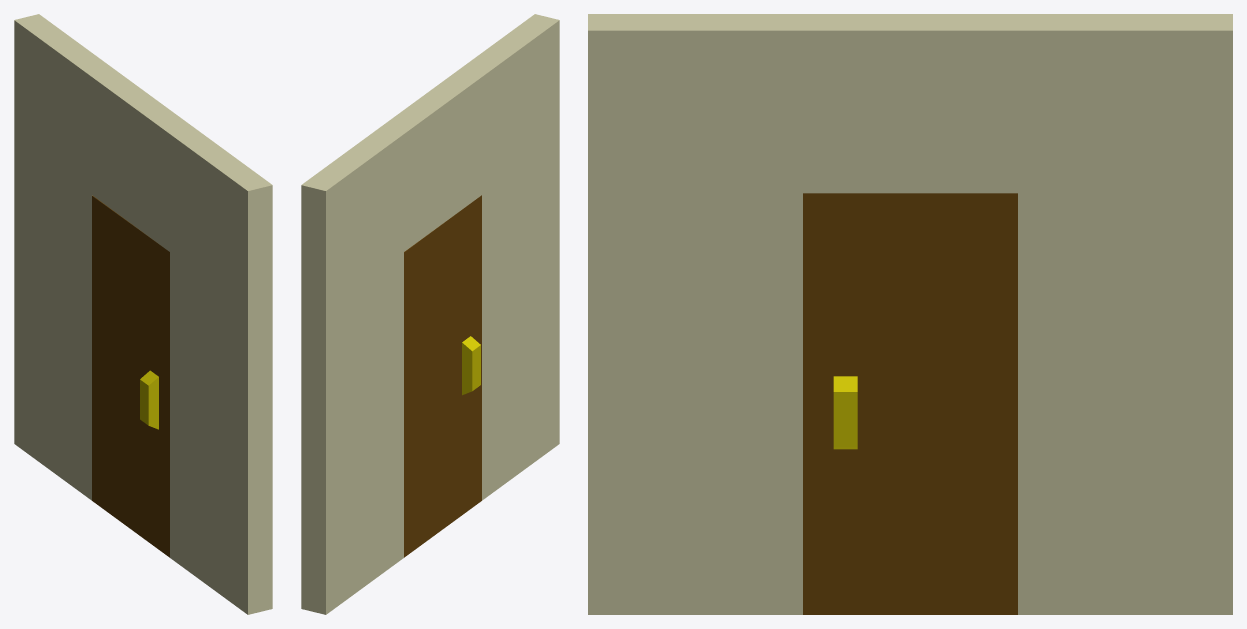
Rendered from door.fbx.
3 views of the same model, side by side, from view 1: azimuth 30°, elevation 25°; view 2: azimuth 150°, elevation 25°; view 3: azimuth 270°, elevation 25° (orthographic). The views are drawn at different scales.
Visible parts, largest first — view 1: Wall, Door; view 2: Wall, Door; view 3: Wall, Door.
Part boxes in pixels (box(x1,y1,x2,y2)): Wall: box(14, 14, 272, 614); Door: box(92, 195, 169, 557); Wall: box(301, 14, 559, 614); Door: box(404, 195, 481, 557); Wall: box(588, 14, 1232, 614); Door: box(803, 193, 1017, 614).
Bounding box in the file's own units: 22.42 × 200 × 200.
